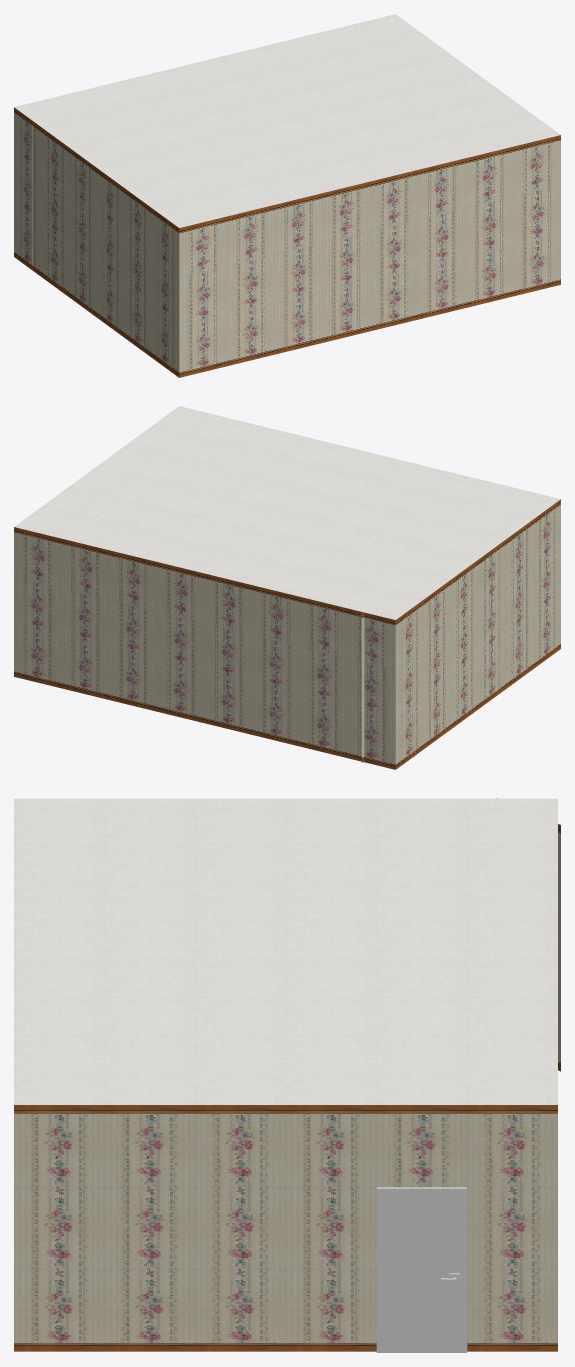
The model's file is Quarto-1.fbx.
The picture shows the model from 3 angles, top to bottom: view 1: azimuth 30°, elevation 25°; view 2: azimuth 150°, elevation 25°; view 3: azimuth 270°, elevation 25°; orthographic projection. The views are drawn at different scales.
Visible parts, largest first — view 1: Plane.159, Plane.091, Plane.098, Plane.135; view 2: Plane.159, Plane.091, Plane.098, Plane.135; view 3: Plane.159, Plane.135, Plane.098, Plane.091, Plane.202.
Part boxes in pixels (x1,y1,x2,y2): Plane.159: [14, 14, 560, 227]; Plane.091: [14, 207, 560, 377]; Plane.098: [14, 157, 560, 327]; Plane.135: [14, 107, 560, 277]; Plane.159: [14, 406, 560, 619]; Plane.091: [14, 599, 560, 769]; Plane.098: [14, 549, 560, 719]; Plane.135: [14, 499, 560, 669]; Plane.159: [14, 798, 557, 1104]; Plane.135: [14, 798, 560, 1187]; Plane.098: [14, 906, 560, 1269]; Plane.091: [14, 988, 560, 1351]; Plane.202: [376, 1187, 467, 1352].
Size of the model in its own units: 1625 by 600 by 1207.
